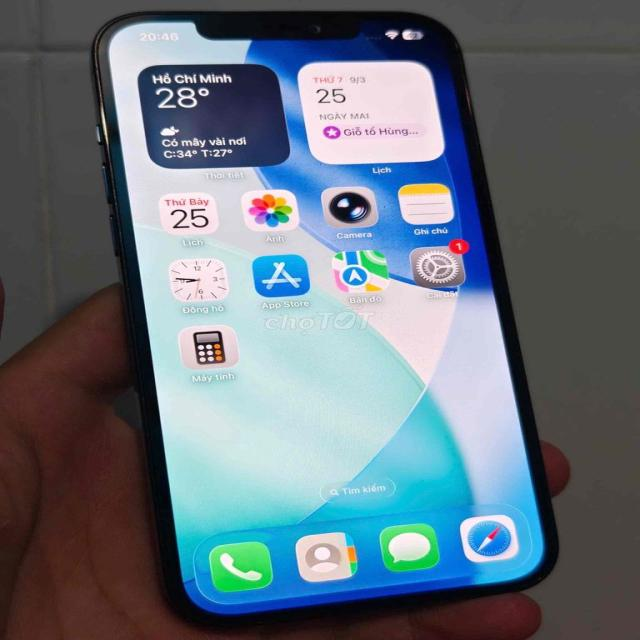gen_12_13: (87, 7, 560, 620)
